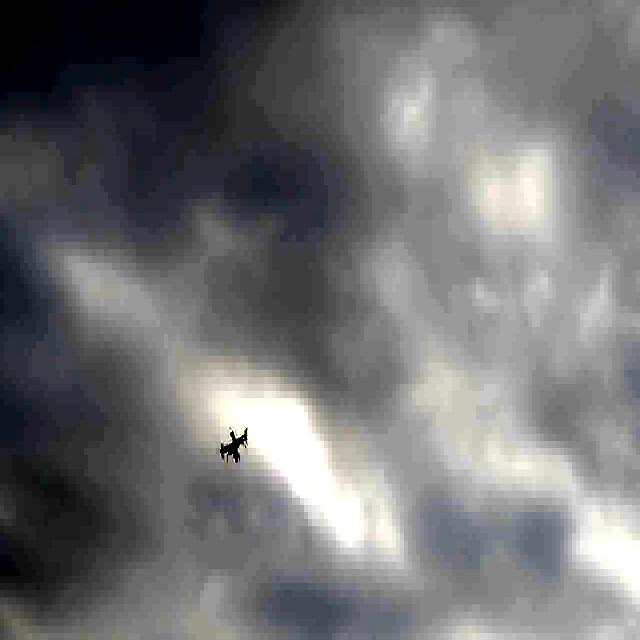drone: (218, 424, 250, 466)
